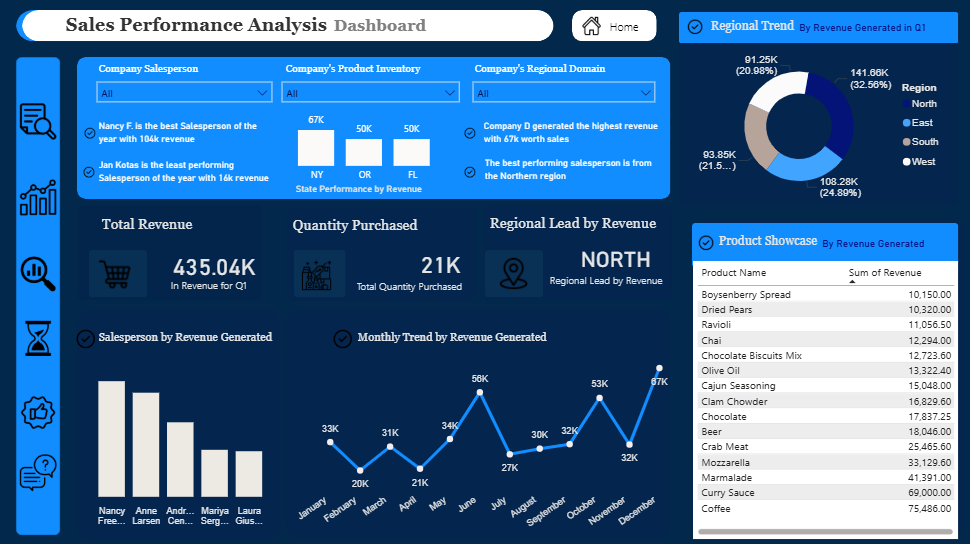

What the dashboard file says about the page in this screenshot:
{"tool":"powerbi","page":{"name":"Dashboard","canvas":[1280,720],"ordinal":0},"visuals":[{"type":"shape","box":[29,16.9,703.4,41],"z":0},{"type":"shape","box":[36.2,16.9,696.1,41],"z":1000},{"type":"shape","box":[29,78.4,57.9,626.1],"z":2000},{"type":"shape","box":[108.6,78.4,776.9,185.8],"z":3000},{"type":"shape","box":[108.6,272.7,242.5,125.5],"z":4000,"group":"g1"},{"type":"shape","box":[108.6,410.2,266.6,300.4],"z":4000},{"type":"shape","box":[381.2,410.2,504.3,299.2],"z":5000},{"type":"shape","box":[896.4,16.9,365.6,255.8],"z":6000},{"type":"shape","box":[383.6,275.1,246.1,123.1],"z":6000,"group":"g2"},{"type":"shape","box":[913.3,290.8,357.1,419.8],"z":7000},{"type":"image","box":[28.9,583.6,57.8,77.1],"z":8000},{"type":"image","box":[28.9,126.6,57.8,71.6],"z":9000},{"type":"shape","box":[641.8,272.7,246.1,125.5],"z":9000,"group":"g3"},{"type":"image","box":[28.9,229.8,57.8,63.3],"z":10000},{"type":"shape","box":[124.3,331.5,76,62.2],"z":11000,"group":"g1"},{"type":"image","box":[28.9,503.7,57.8,79.8],"z":11000},{"type":"image","box":[28.9,328.9,57.8,68.8],"z":12000},{"type":"shape","box":[392.5,331.7,67.6,61.5],"z":12000,"group":"g2"},{"type":"donutChart","fields":{"Category":["Data (2).Region"],"Y":["Sum(Data (2).Revenue)"]},"box":[913.3,65.1,345,207.5],"z":13000},{"type":"shape","box":[643,331.5,76,62.2],"z":13000,"group":"g3"},{"type":"image","box":[124.3,338.3,67.6,50.9],"z":14000,"group":"g1"},{"type":"textbox","box":[471.7,430.7,288.3,36.2],"z":14000},{"type":"shape","box":[896.4,19.3,365.6,41],"z":15000},{"type":"card","fields":{"Values":["Sum(Data (2).Revenue)"]},"box":[226.8,329.2,124.3,44.1],"z":15000,"group":"g1"},{"type":"textbox","box":[1047.3,22.3,214.7,31.4],"z":16000},{"type":"textbox","box":[135.6,281.6,143.6,36.2],"z":16000,"group":"g1"},{"type":"textbox","box":[933.8,22.9,144.8,38.6],"z":17000},{"type":"textbox","box":[226.8,363.2,121.9,30.2],"z":17000,"group":"g1"},{"type":"image","box":[388.4,339,67.6,50.7],"z":18000,"group":"g2"},{"type":"lineChart","fields":{"Category":["Data (2).Order Date.Variation.Date Hierarchy.Month"],"Y":["Sum(Data (2).Revenue)"]},"box":[387.3,462.1,504.3,253.4],"z":18000},{"type":"textbox","box":[386,282.3,191.8,35],"z":19000,"group":"g2"},{"type":"shape","box":[913.3,295.6,348.7,57.9],"z":19000},{"type":"shape","box":[756.4,16.9,111,41],"z":20000},{"type":"textbox","box":[644.2,281.1,236.5,35],"z":20000,"group":"g3"},{"type":"card","fields":{"Values":["Sum(Data (2).Quantity)"]},"box":[550.1,328.3,70,41],"z":21000,"group":"g2"},{"type":"tableEx","fields":{"Values":["Data (2).Product Name","Sum(Data (2).Revenue)"]},"box":[914.5,345,347.5,364.3],"z":21000},{"type":"clusteredColumnChart","fields":{"Category":["Data (2).Salesperson"],"Y":["Sum(Data (2).Revenue)"]},"box":[108.5,465.7,266.6,235.3],"z":21000,"group":"g4"},{"type":"image","box":[918.1,306.4,29,31.4],"z":22000},{"type":"textbox","box":[470.5,364.4,159.3,27.7],"z":22000,"group":"g2"},{"type":"textbox","box":[943.4,305.2,153.2,38.6],"z":23000},{"type":"textbox","box":[763.7,322.2,112.2,43.4],"z":23000,"group":"g3"},{"type":"textbox","box":[132.7,430.7,282.3,36.2],"z":23000,"group":"g4"},{"type":"textbox","box":[1078.7,303.7,178,32.7],"z":24000},{"type":"textbox","box":[722.6,355.9,168.9,35],"z":24000,"group":"g3"},{"type":"image","box":[758.9,20.5,45.8,33.8],"z":25000},{"type":"image","box":[28.9,418.4,57.8,56.4],"z":26000},{"type":"textbox","box":[439.9,19.6,132.2,44.5],"z":27000},{"type":"textbox","box":[89,17,380.9,44.5],"z":28000},{"type":"textbox","box":[801.1,24.1,54.3,32.6],"z":29000},{"type":"image","box":[439.1,430.7,36.2,33.8],"z":30000},{"type":"slicer","fields":{"Values":["Data (2).Salesperson"]},"box":[124.3,101.3,249.7,53.1],"z":31000},{"type":"slicer","fields":{"Values":["Data (2).Product Name"]},"box":[366.8,101.3,253.4,53.1],"z":32000},{"type":"slicer","fields":{"Values":["Data (2).Region"]},"box":[616.5,101.3,259.4,51.9],"z":33000},{"type":"image","box":[102.5,430.7,36.2,33.8],"z":33000,"group":"g4"},{"type":"textbox","box":[132.2,78.5,150.5,28.8],"z":34000},{"type":"textbox","box":[377.6,78.4,191.8,29],"z":35000},{"type":"textbox","box":[624.9,78.4,199.1,29],"z":36000},{"type":"columnChart","fields":{"Category":["Data (2).State"],"Y":["Sum(Data (2).Revenue)"]},"box":[368.2,139.9,235.3,111],"z":37000},{"type":"textbox","box":[389.9,235.3,194.2,29],"z":38000},{"type":"group","id":"g1","title":"Group 1","box":[108.6,272.7,242.5,125.5],"z":39000},{"type":"group","id":"g2","title":"Group 2","box":[383.6,275.1,246.1,123.1],"z":40000},{"type":"group","id":"g3","title":"Group 3","box":[641.8,272.7,249.7,125.5],"z":41000},{"type":"textbox","box":[132.7,153.2,234,50.7],"z":42000},{"type":"textbox","box":[132.7,203.9,234,47.1],"z":43000},{"type":"image","box":[112.2,166.5,26.5,24.1],"z":44000},{"type":"image","box":[111,217.2,26.5,24.1],"z":45000},{"type":"textbox","box":[637,201.5,242.5,53.1],"z":46000},{"type":"textbox","box":[635.8,153.2,243.7,50.7],"z":47000},{"type":"image","box":[646.6,337.1,67.6,50.9],"z":47000,"group":"g3"},{"type":"image","box":[903.6,22.9,29,31.4],"z":48000},{"type":"image","box":[610.7,166.5,26.5,24.1],"z":49000},{"type":"image","box":[609.5,217.2,26.5,24.1],"z":50000},{"type":"group","id":"g4","title":"Group 4","box":[102.5,430.7,312.5,270.2],"z":51000}]}

Visuals, with their boxes in screenshot pixels (x1, y1, x2, y2), scaled from the page's 1280x720 canvas onto the 970x544 screenshot:
shape: [left=22, top=13, right=555, bottom=44]
shape: [left=27, top=13, right=555, bottom=44]
shape: [left=22, top=59, right=66, bottom=532]
shape: [left=82, top=59, right=671, bottom=200]
shape: [left=82, top=206, right=266, bottom=301]
shape: [left=82, top=310, right=284, bottom=537]
shape: [left=289, top=310, right=671, bottom=536]
shape: [left=679, top=13, right=956, bottom=206]
shape: [left=291, top=208, right=477, bottom=301]
shape: [left=692, top=220, right=963, bottom=537]
image: [left=22, top=441, right=66, bottom=499]
image: [left=22, top=96, right=66, bottom=150]
shape: [left=486, top=206, right=673, bottom=301]
image: [left=22, top=174, right=66, bottom=221]
shape: [left=94, top=250, right=152, bottom=297]
image: [left=22, top=381, right=66, bottom=441]
image: [left=22, top=249, right=66, bottom=300]
shape: [left=297, top=251, right=349, bottom=297]
donutChart - Data (2).Region x Sum(Data (2).Revenue): [left=692, top=49, right=954, bottom=206]
shape: [left=487, top=250, right=545, bottom=297]
image: [left=94, top=256, right=145, bottom=294]
textbox: [left=357, top=325, right=576, bottom=353]
shape: [left=679, top=15, right=956, bottom=46]
card - Sum(Data (2).Revenue): [left=172, top=249, right=266, bottom=282]
textbox: [left=794, top=17, right=956, bottom=41]
textbox: [left=103, top=213, right=212, bottom=240]
textbox: [left=708, top=17, right=817, bottom=46]
textbox: [left=172, top=274, right=264, bottom=297]
image: [left=294, top=256, right=346, bottom=294]
lineChart - Data (2).Order Date.Variation.Date Hierarchy.Month x Sum(Data (2).Revenue): [left=294, top=349, right=676, bottom=541]
textbox: [left=293, top=213, right=438, bottom=240]
shape: [left=692, top=223, right=956, bottom=267]
shape: [left=573, top=13, right=657, bottom=44]
textbox: [left=488, top=212, right=667, bottom=239]
card - Sum(Data (2).Quantity): [left=417, top=248, right=470, bottom=279]
tableEx - Data (2).Product Name x Sum(Data (2).Revenue): [left=693, top=261, right=956, bottom=536]
clusteredColumnChart - Data (2).Salesperson x Sum(Data (2).Revenue): [left=82, top=352, right=284, bottom=530]
image: [left=696, top=232, right=718, bottom=255]
textbox: [left=357, top=275, right=477, bottom=296]
textbox: [left=715, top=231, right=831, bottom=260]
textbox: [left=579, top=243, right=664, bottom=276]
textbox: [left=101, top=325, right=314, bottom=353]
textbox: [left=817, top=229, right=952, bottom=254]
textbox: [left=548, top=269, right=676, bottom=295]
image: [left=575, top=15, right=610, bottom=41]
image: [left=22, top=316, right=66, bottom=359]
textbox: [left=333, top=15, right=434, bottom=48]
textbox: [left=67, top=13, right=356, bottom=46]
textbox: [left=607, top=18, right=648, bottom=43]
image: [left=333, top=325, right=360, bottom=351]
slicer - Data (2).Salesperson: [left=94, top=77, right=283, bottom=117]
slicer - Data (2).Product Name: [left=278, top=77, right=470, bottom=117]
slicer - Data (2).Region: [left=467, top=77, right=664, bottom=116]
image: [left=78, top=325, right=105, bottom=351]
textbox: [left=100, top=59, right=214, bottom=81]
textbox: [left=286, top=59, right=431, bottom=81]
textbox: [left=474, top=59, right=624, bottom=81]
columnChart - Data (2).State x Sum(Data (2).Revenue): [left=279, top=106, right=457, bottom=190]
textbox: [left=295, top=178, right=443, bottom=200]
"Group 1" group: [left=82, top=206, right=266, bottom=301]
"Group 2" group: [left=291, top=208, right=477, bottom=301]
"Group 3" group: [left=486, top=206, right=676, bottom=301]
textbox: [left=101, top=116, right=278, bottom=154]
textbox: [left=101, top=154, right=278, bottom=190]
image: [left=85, top=126, right=105, bottom=144]
image: [left=84, top=164, right=104, bottom=182]
textbox: [left=483, top=152, right=666, bottom=192]
textbox: [left=482, top=116, right=666, bottom=154]
image: [left=490, top=255, right=541, bottom=293]
image: [left=685, top=17, right=707, bottom=41]
image: [left=463, top=126, right=483, bottom=144]
image: [left=462, top=164, right=482, bottom=182]
"Group 4" group: [left=78, top=325, right=314, bottom=530]
